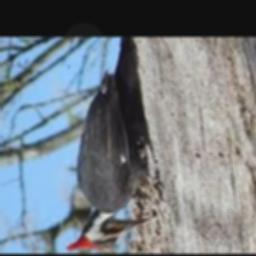Woodpecker: (66, 71, 153, 250)
